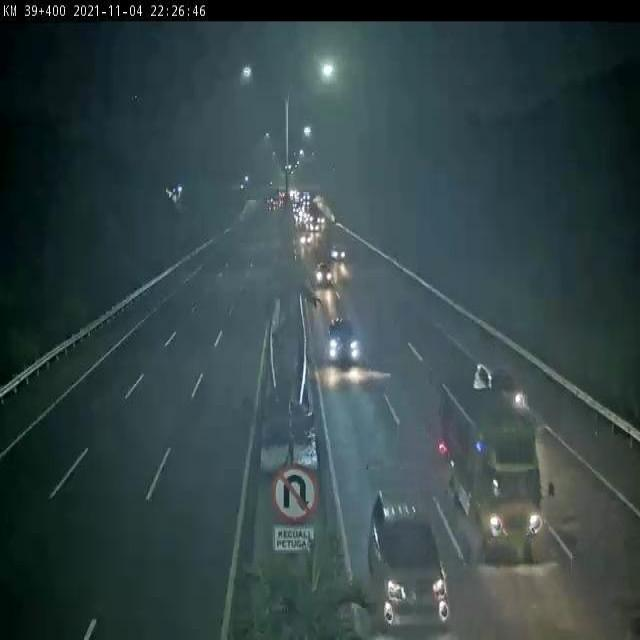car: (367, 488, 448, 628), (330, 319, 360, 365)
truck-m-: (442, 363, 561, 565)
